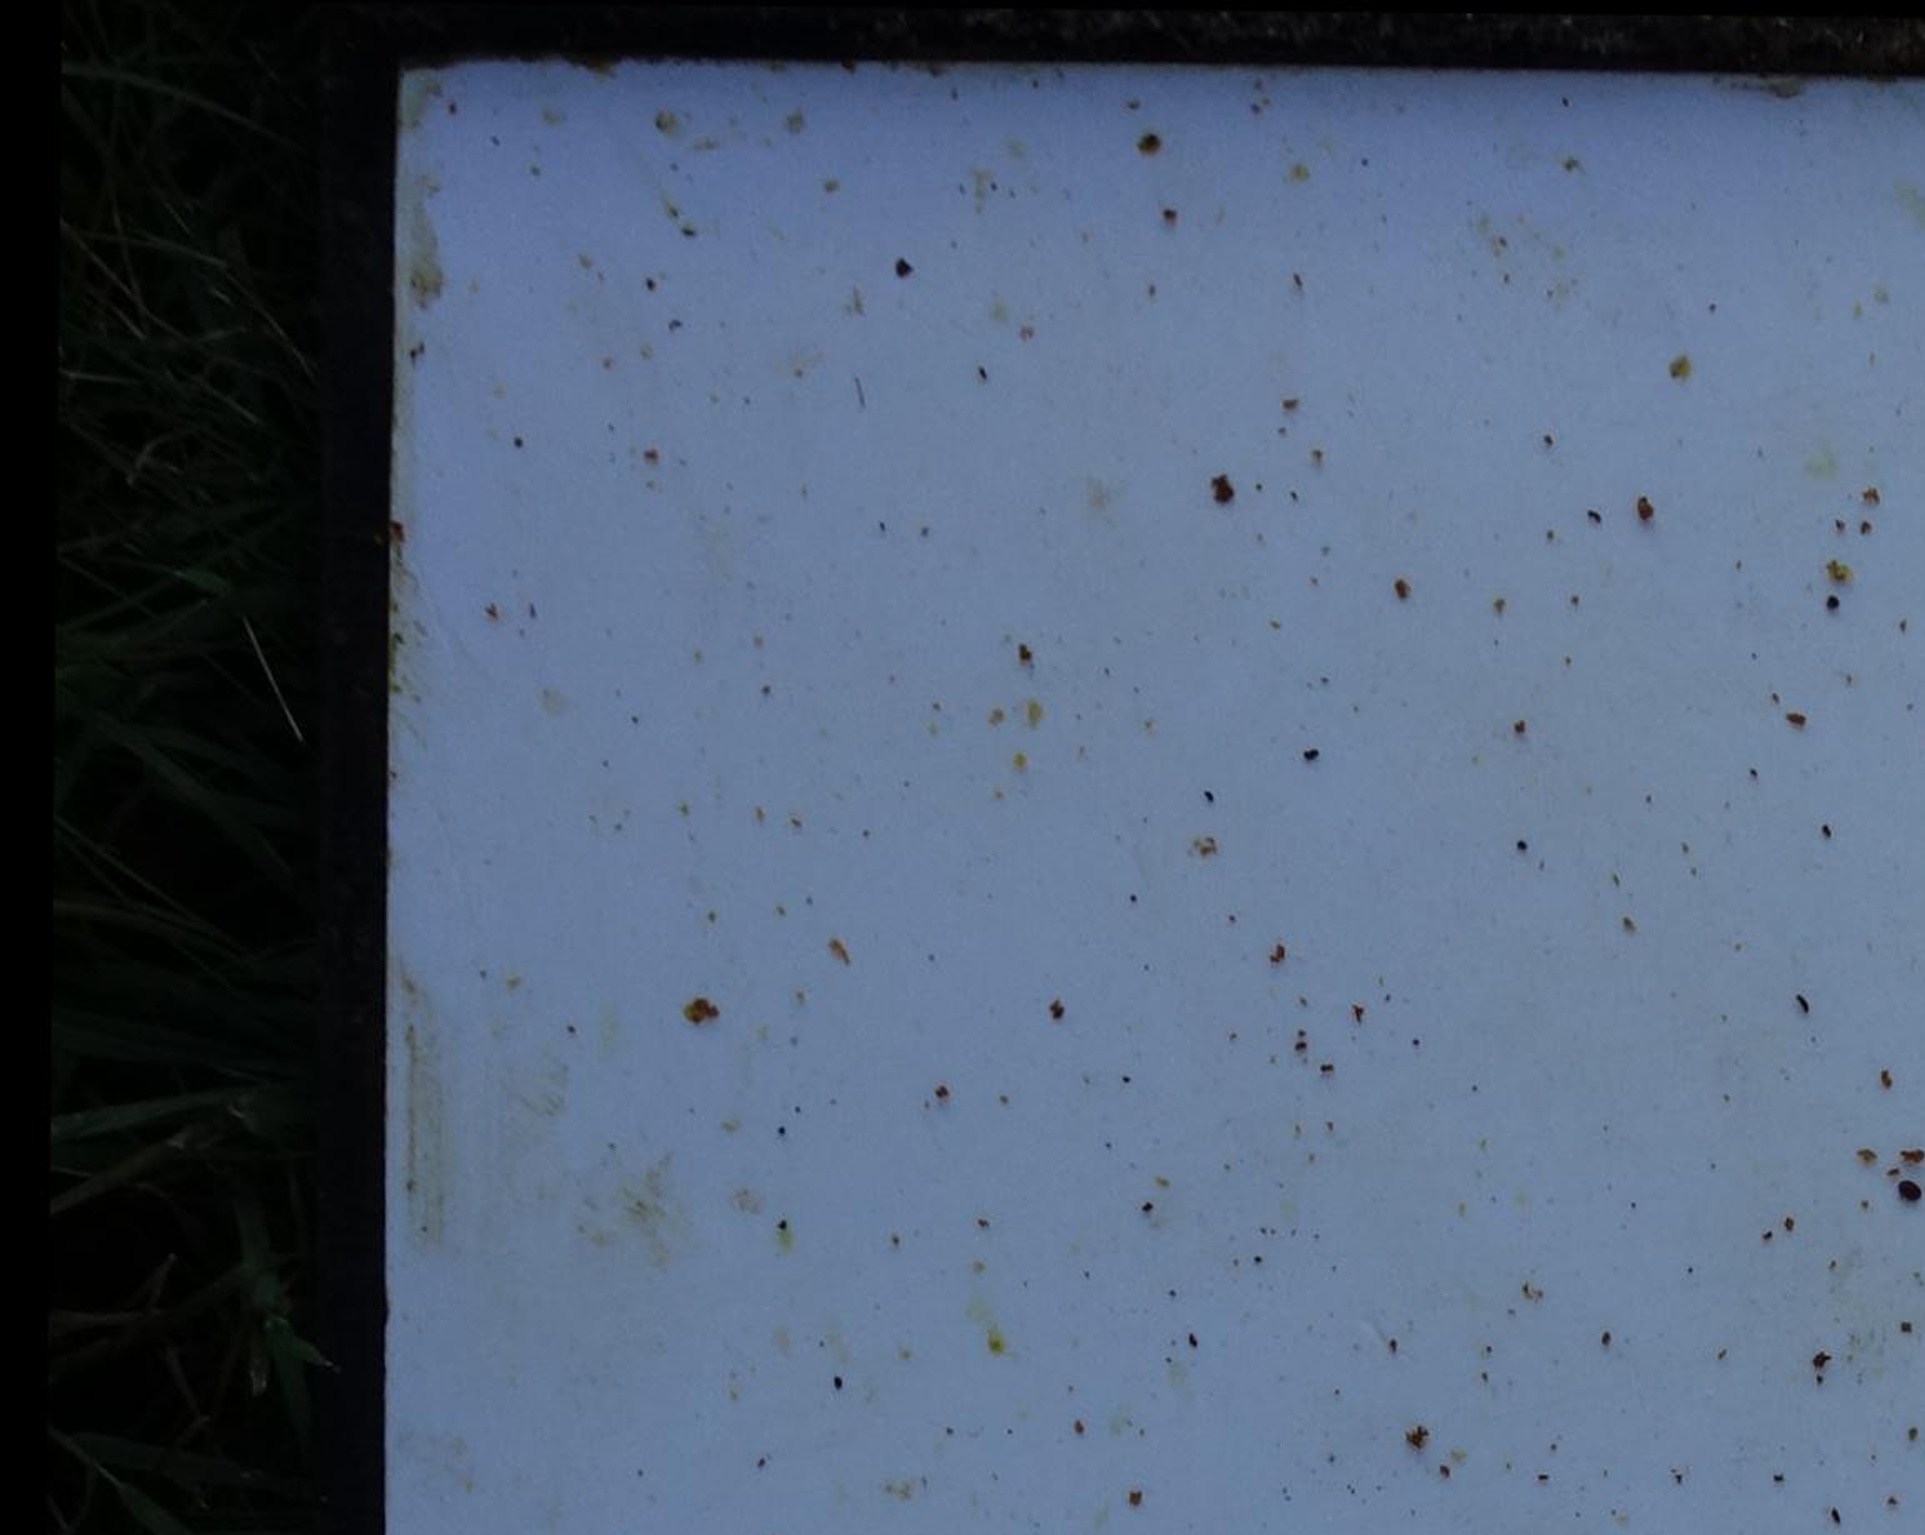Varroa: (1895, 1178, 1923, 1208)
